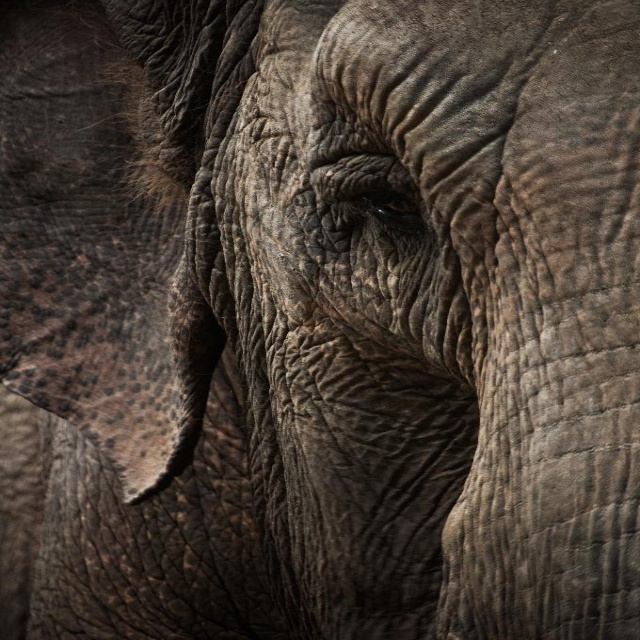Elephant: (39, 10, 613, 640)
